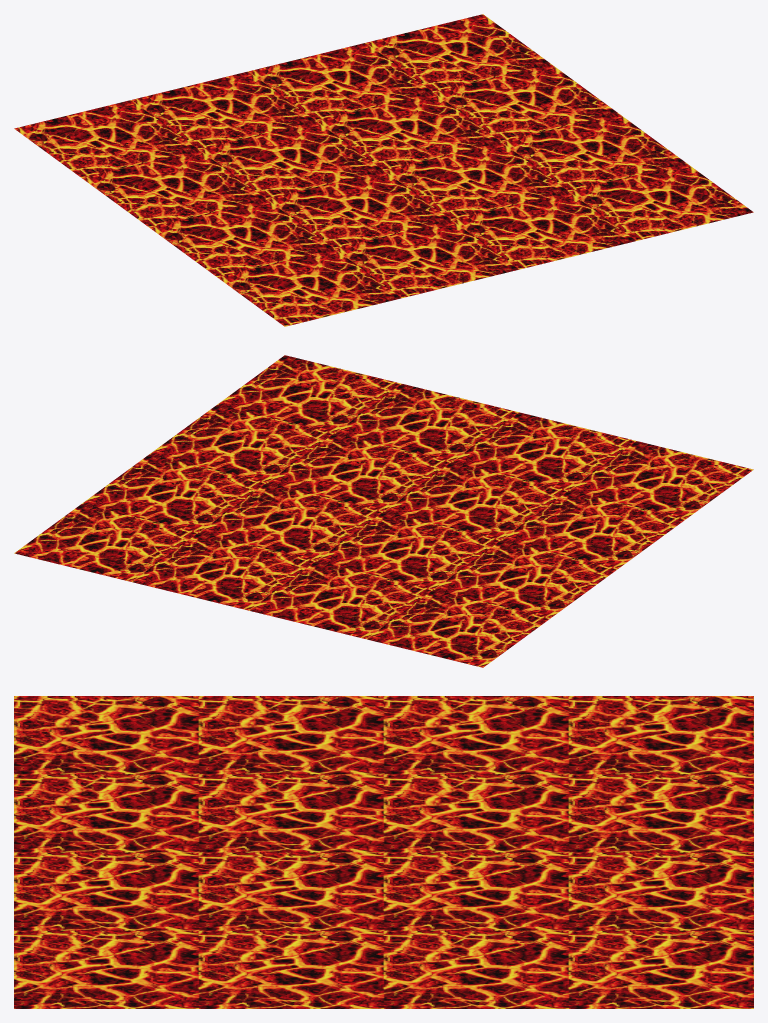
File: lava.obj
3 views of the same model, one above another, from view 1: azimuth 30°, elevation 25°; view 2: azimuth 150°, elevation 25°; view 3: azimuth 270°, elevation 25° (orthographic). The views are drawn at different scales.
Parts seen in each view (by area): view 1: LavaPlane; view 2: LavaPlane; view 3: LavaPlane.
Boxes of the visible parts, x1,y1,x2,y2 form: LavaPlane: [14, 14, 753, 326]; LavaPlane: [14, 355, 753, 667]; LavaPlane: [14, 696, 753, 1008].
Size of the model in its own units: 2 by 0 by 2.
Materials: 1 (1 with a texture image).
